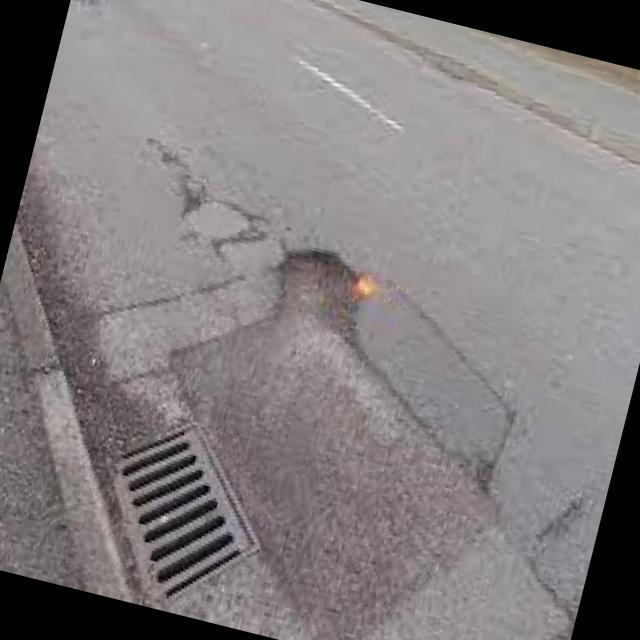Pothole: (252, 248, 374, 374)
